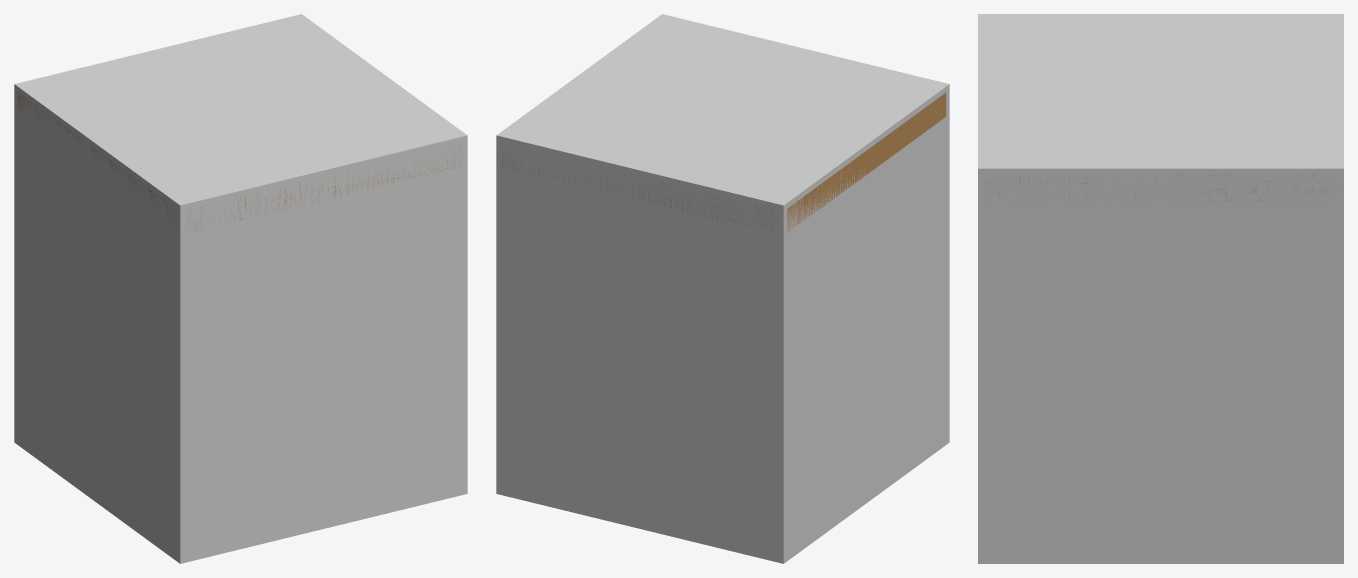
The model's file is side-table_commercial.glb.
The picture shows the model from 3 angles, left to right: view 1: azimuth 30°, elevation 25°; view 2: azimuth 150°, elevation 25°; view 3: azimuth 270°, elevation 25°; orthographic projection. The views are drawn at different scales.
Parts seen in each view (by area): view 1: COL_side-table, MESH_Top; view 2: COL_side-table, MESH_Top; view 3: COL_side-table.
Boxes of the visible parts, x1=… form: COL_side-table: x1=14, y1=14, x2=467, y2=563; MESH_Top: x1=17, y1=92, x2=461, y2=233; COL_side-table: x1=496, y1=14, x2=949, y2=563; MESH_Top: x1=502, y1=92, x2=946, y2=233; COL_side-table: x1=978, y1=14, x2=1343, y2=563.
Bounding box in the file's own units: 0.52 × 0.62 × 0.52.
